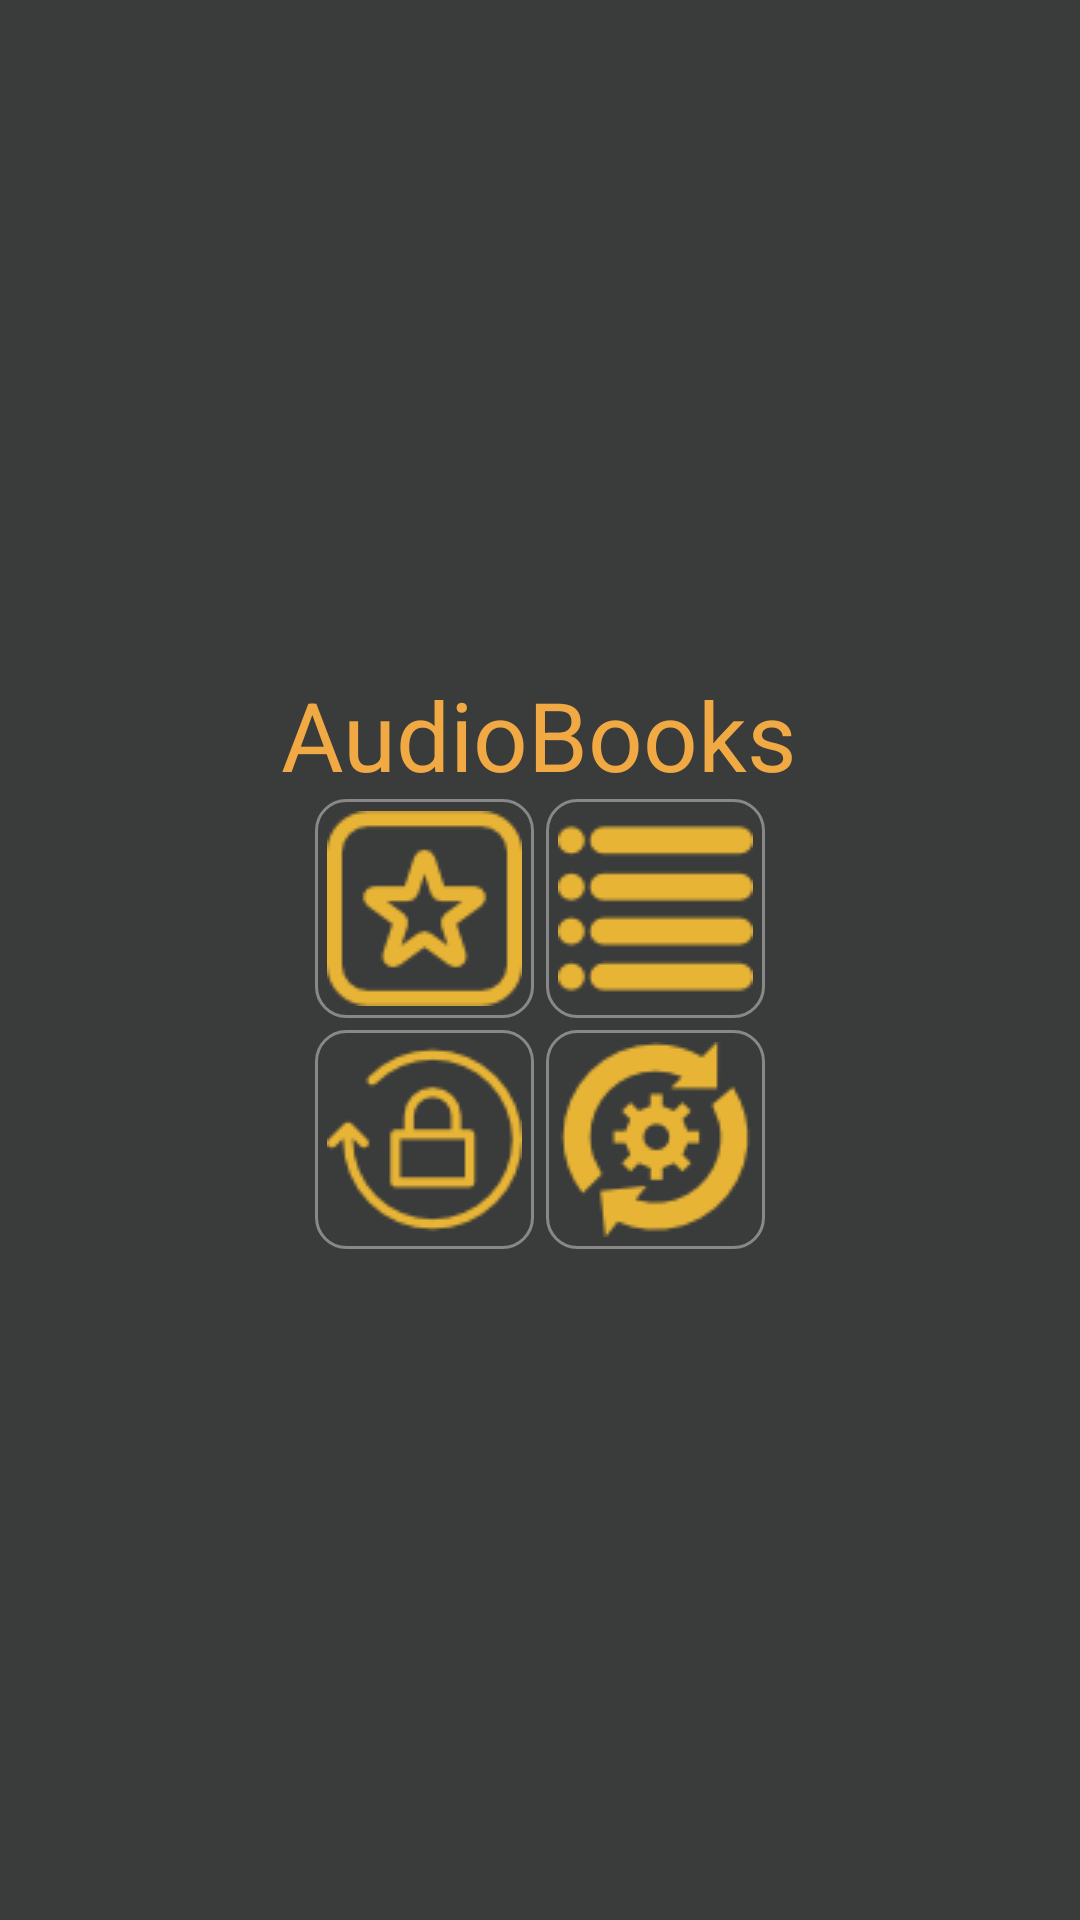

Locate icon controls on the screen. Image size 1080×1920, boxes as BBox(x1, y1, x2, y2).
configurar: BBox(546, 1030, 765, 1249)
favorito: BBox(315, 799, 534, 1018)
